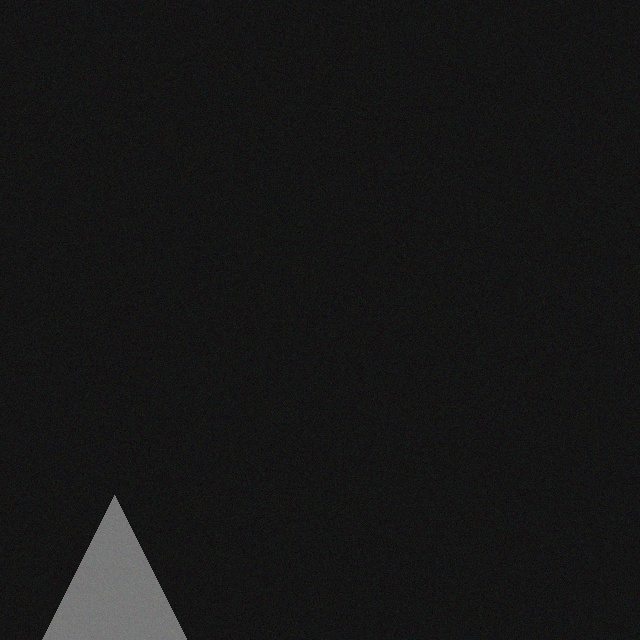triangle: (38, 490, 185, 637)
